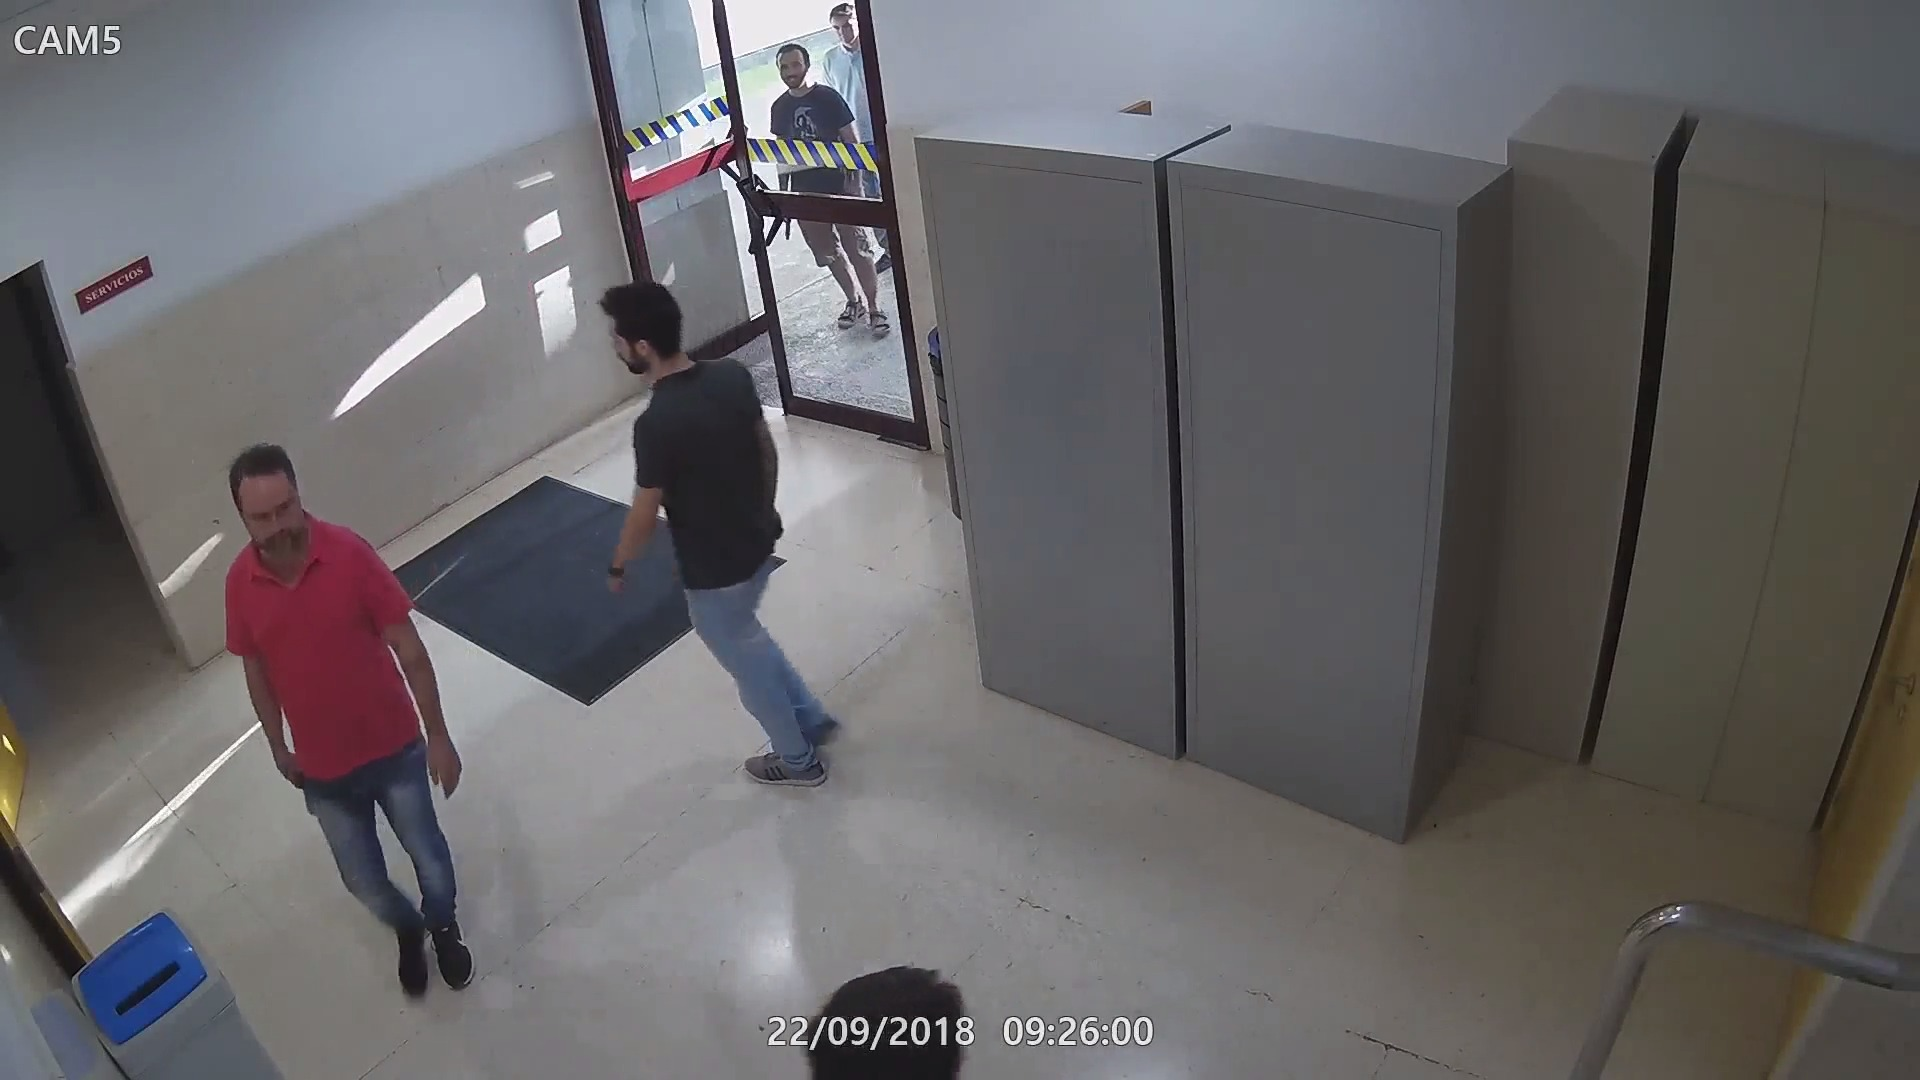Handgun: (781, 215, 793, 240)
